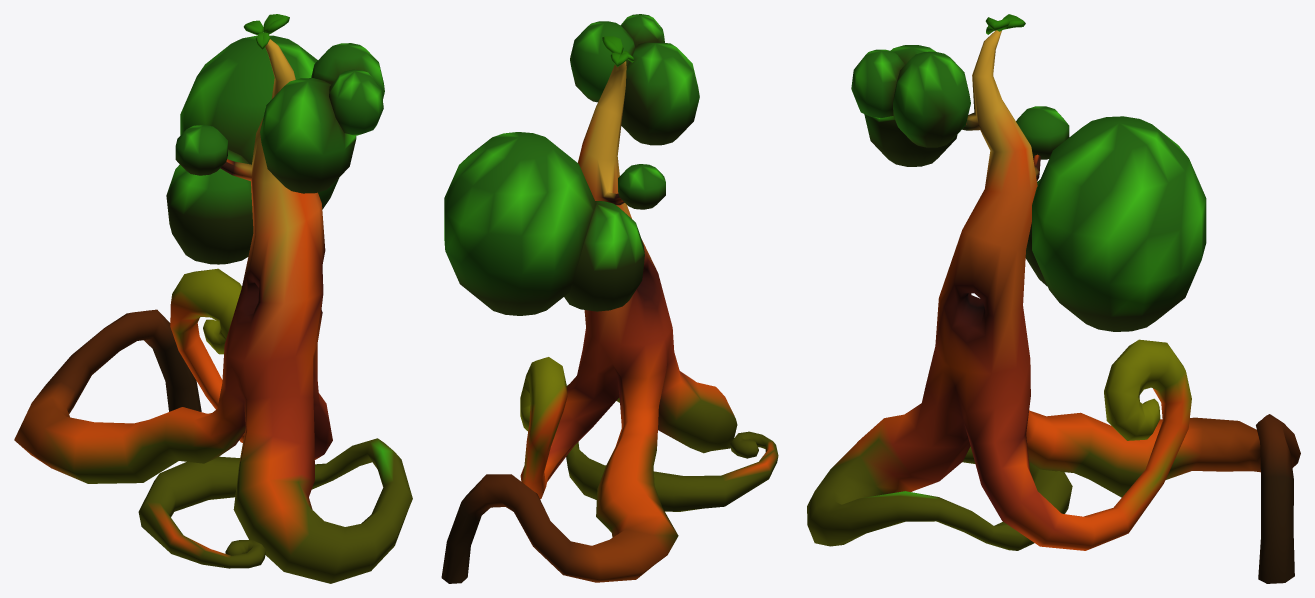
File: Tree_01.fbx
3 views of the same model, side by side, from view 1: azimuth 30°, elevation 25°; view 2: azimuth 150°, elevation 25°; view 3: azimuth 270°, elevation 25° (orthographic). The views are drawn at different scales.
Parts seen in each view (by area): view 1: Tree_01; view 2: Tree_01; view 3: Tree_01.
Boxes of the visible parts, <box> form: Tree_01: <box>14,14,412,583</box>; Tree_01: <box>441,14,778,583</box>; Tree_01: <box>807,14,1300,583</box>.
Size of the model in its own units: 2826 by 5125 by 4261.
